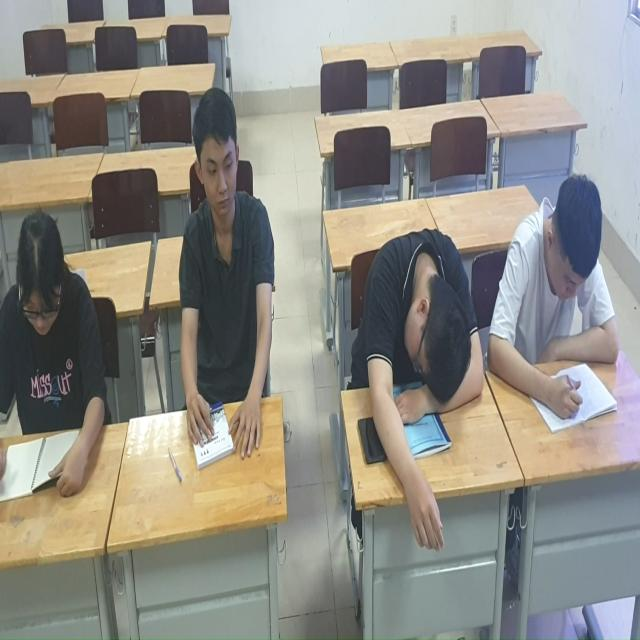read: (178, 80, 277, 475), (1, 187, 128, 485), (484, 165, 623, 429)
sleep: (360, 211, 487, 577)
